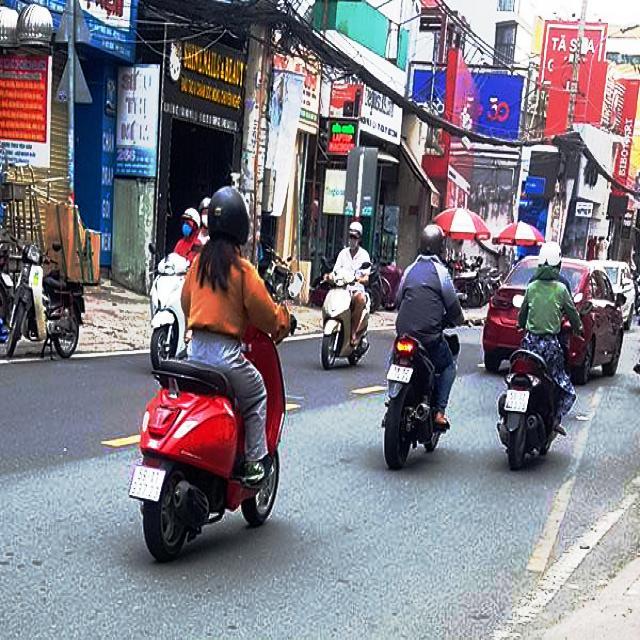license_plate: (130, 466, 166, 503)
